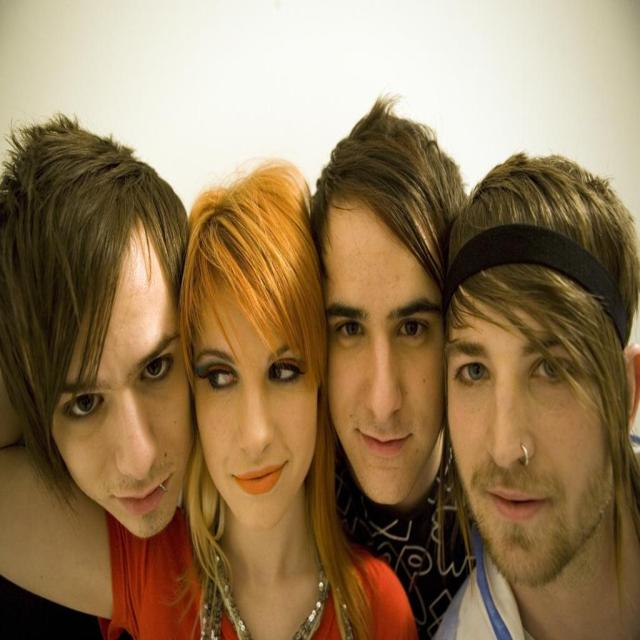Face: (449, 217, 640, 596), (316, 181, 477, 506), (46, 252, 192, 556), (166, 282, 333, 506)
